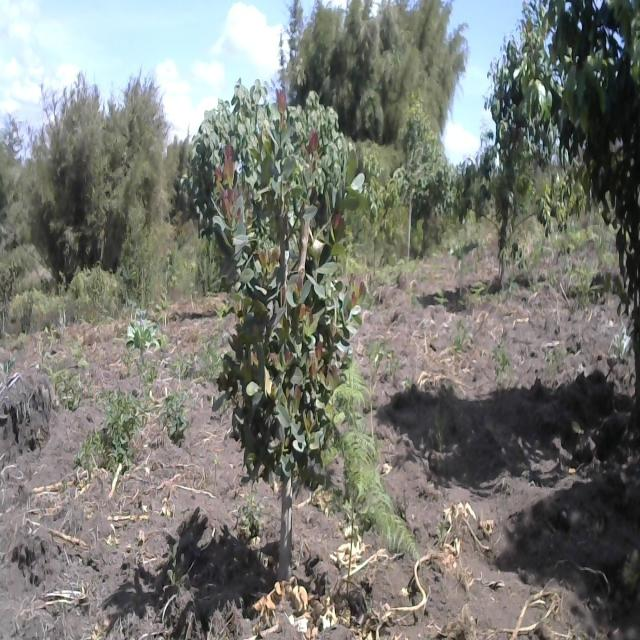Lemon Myrtle: (398, 90, 456, 232)
other: (202, 83, 421, 633)
